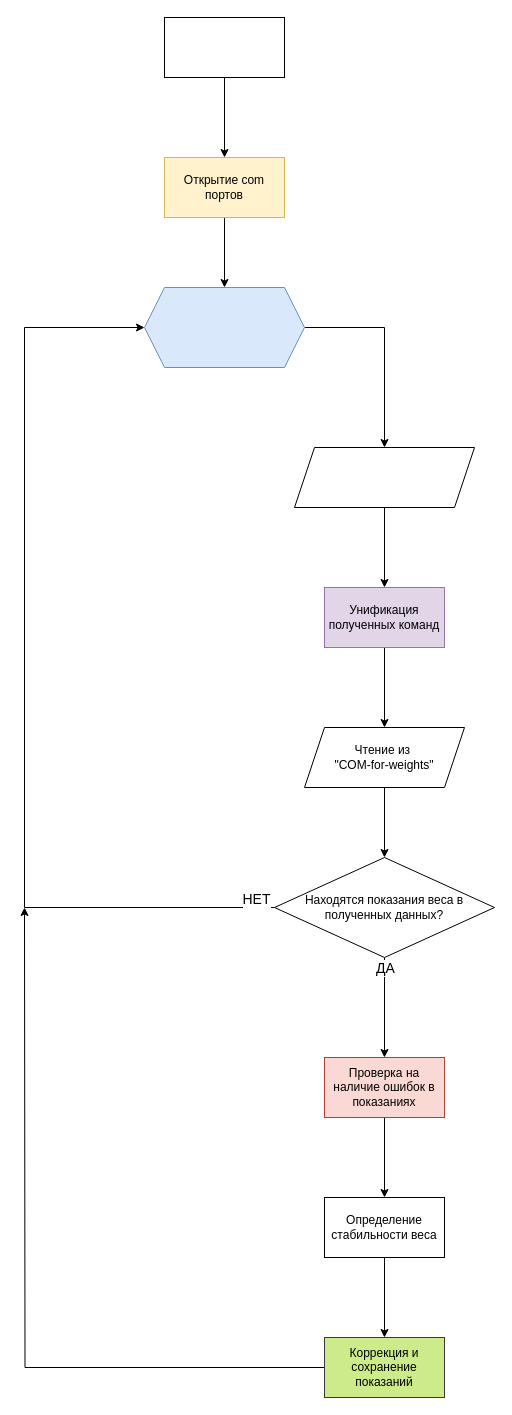
This 512x1415 diagram has some shape labels left out. The shapes that lost their labels are listed below. From the top down, each one's box as (x1, y1, x2, y2) in pixels, then its label:
(164, 16, 284, 78): Чтение ini файла, инициализация настроек
(144, 286, 304, 368): Пока run_flag == true
(294, 446, 474, 508): Чтение из "COM-end-for-retranslator"
